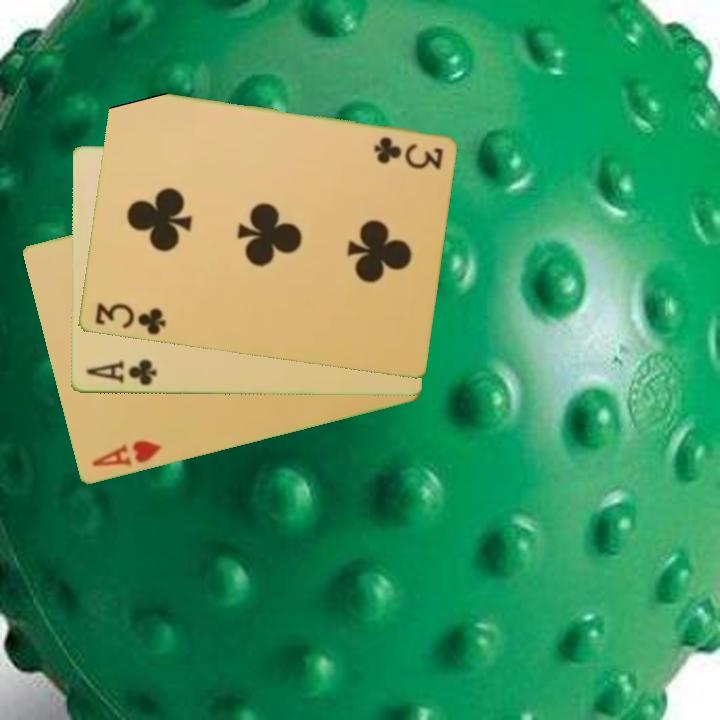3c: (91, 299, 168, 339), (370, 133, 446, 171)
Ac: (82, 356, 159, 389)
Ah: (88, 437, 165, 470)
